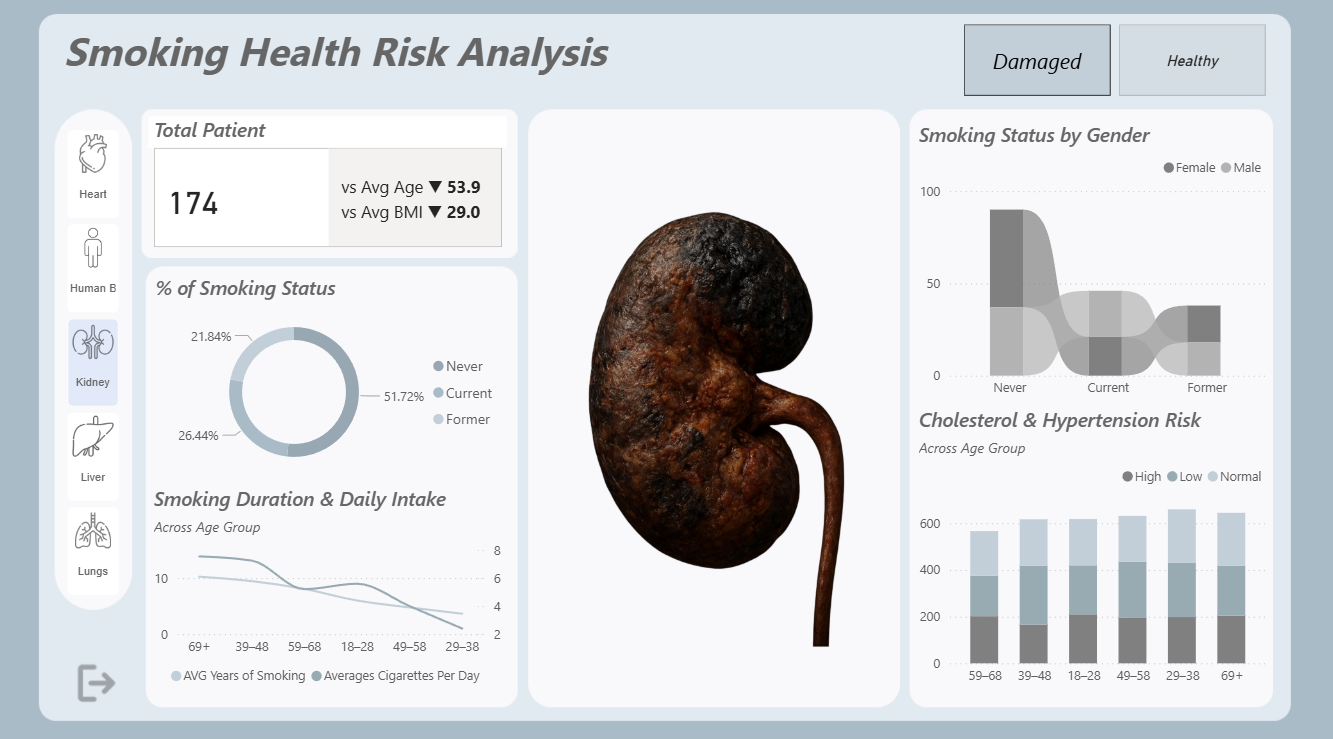

Layout of this report page (visuals, bound fields, positions):
{"tool":"powerbi","page":{"name":"Page 1","canvas":[1280,720],"ordinal":0},"visuals":[{"type":"advancedSlicerVisual","fields":{"Values":["condition.Organ_Condition"]},"box":[918.6,25.7,298.6,78.6],"z":0},{"type":"cardVisual","title":"Total Patient","fields":{"Data":["CountNonNull(health_dataset.Patient_ID)"]},"box":[145,118.8,342,130],"z":1000},{"type":"ChicletSlicer1448559807354","fields":{"Category":["Organs.Organ"],"Image":["Organs.Icon_URL"]},"box":[58.9,123.2,86.8,465.3],"z":2000},{"type":"image","box":[515,118.3,342,553.3],"z":3000},{"type":"donutChart","title":"% of Smoking Status","fields":{"Category":["health_dataset.Smoking_Status"],"Y":["CountNonNull(health_dataset.Smoking_Status)"]},"box":[145.7,270,341.4,200],"z":4000},{"type":"lineChart","title":"Smoking Duration & Daily Intake","fields":{"Category":["health_dataset.Age Group"],"Y":["Avg(health_dataset.Years_of_Smoking)"],"Y2":["Avg(health_dataset.Cigarettes_Per_Day)"]},"box":[144.3,471.4,341.4,200],"z":5000},{"type":"ribbonChart","title":"Smoking Status by Gender","fields":{"Category":["health_dataset.Smoking_Status"],"Y":["CountNonNull(health_dataset.Patient_ID)"],"Series":["health_dataset.Gender"]},"box":[875.7,122.9,341.4,272.9],"z":6000},{"type":"columnChart","title":"Cholesterol & Hypertension Risk","fields":{"Category":["health_dataset.Age Group"],"Y":["Avg(health_dataset.Cholesterol_Level)"],"Series":["health_dataset.BP_Risk"]},"box":[875.7,395.7,342,275.7],"z":7000},{"type":"textbox","box":[58.6,25.7,547.1,64.3],"z":7001}]}

Visuals, with their boxes in screenshot pixels (x1, y1, x2, y2), scaled from the page's 1280x720 canvas onto the 1333x739 screenshot:
advancedSlicerVisual - condition.Organ_Condition: x1=957, y1=26, x2=1268, y2=107
"Total Patient" cardVisual: x1=151, y1=122, x2=507, y2=255
ChicletSlicer1448559807354 - Organs.Organ x Organs.Icon_URL: x1=61, y1=126, x2=152, y2=604
image: x1=536, y1=121, x2=892, y2=689
"% of Smoking Status" donutChart: x1=152, y1=277, x2=507, y2=482
"Smoking Duration & Daily Intake" lineChart: x1=150, y1=484, x2=506, y2=689
"Smoking Status by Gender" ribbonChart: x1=912, y1=126, x2=1267, y2=406
"Cholesterol & Hypertension Risk" columnChart: x1=912, y1=406, x2=1268, y2=689
textbox: x1=61, y1=26, x2=631, y2=92
